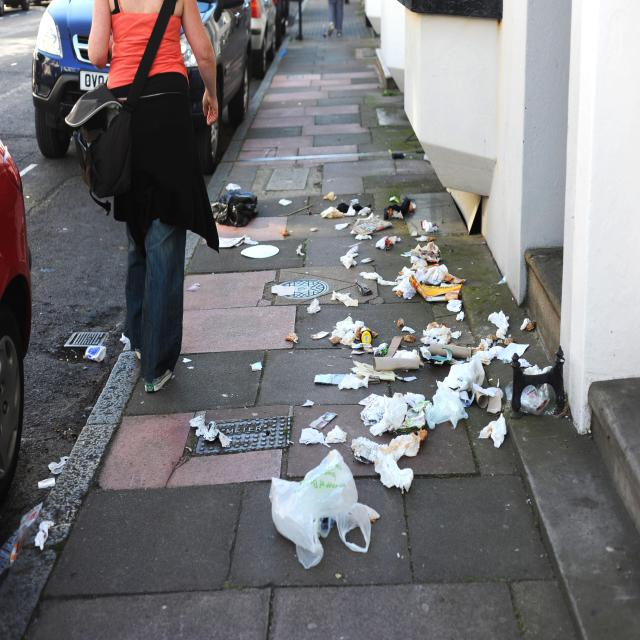garbage: (188, 183, 576, 573)
